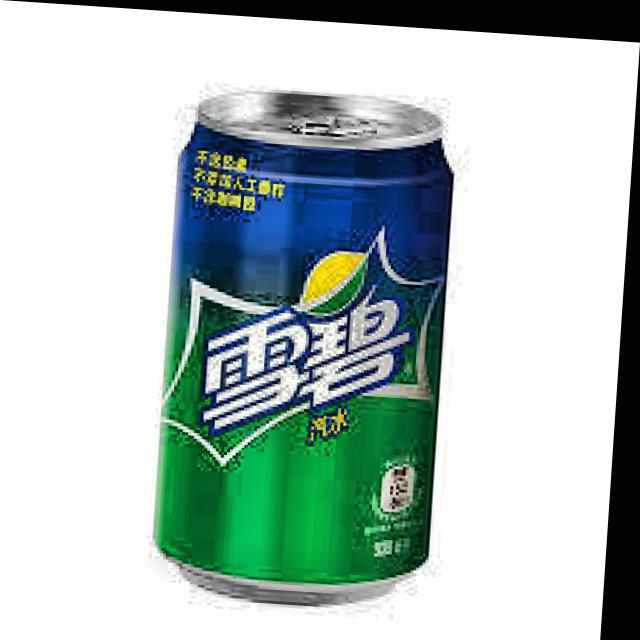can: (136, 67, 477, 622)
